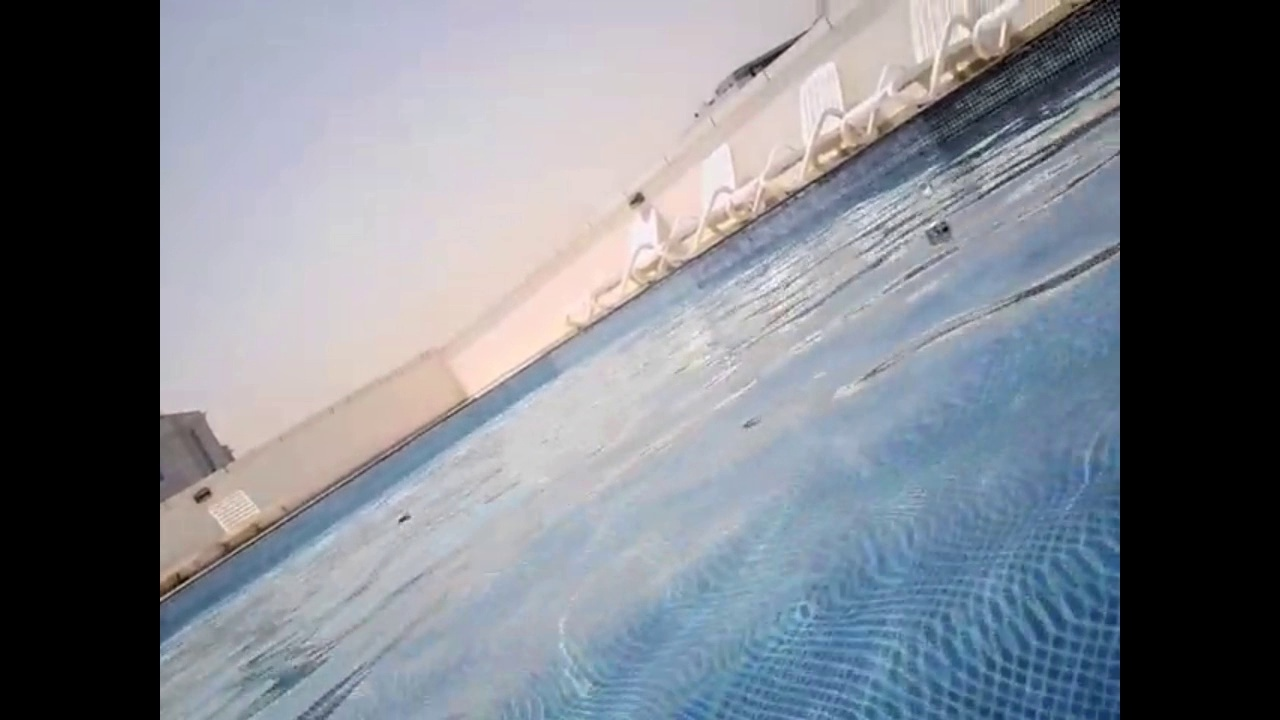debris: (920, 213, 949, 245), (389, 501, 411, 531), (914, 174, 934, 198)
